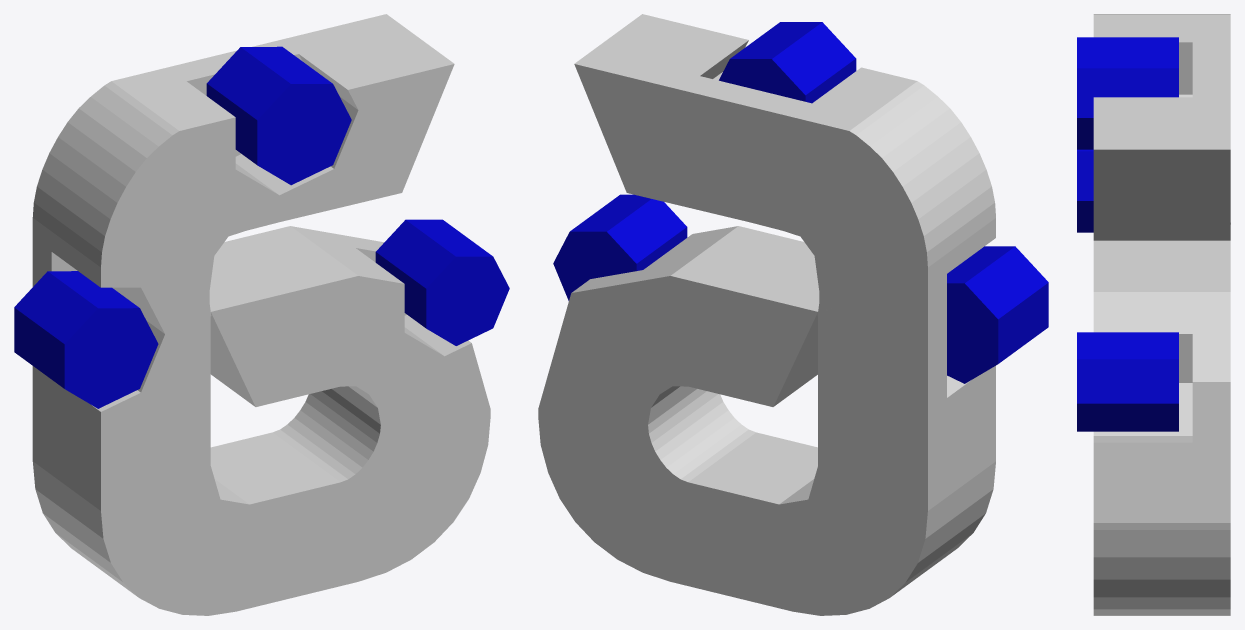
File: Ch_Lite_6_01.fbx
3 renders of one model, left to right at view 1: azimuth 30°, elevation 25°; view 2: azimuth 150°, elevation 25°; view 3: azimuth 270°, elevation 25°, orthographic.
Visible parts, largest first — view 1: sphere1; view 2: sphere1; view 3: sphere1.
Boxes of the visible parts, bbox=[...] form: sphere1: bbox=[14, 14, 509, 615]; sphere1: bbox=[538, 14, 1048, 615]; sphere1: bbox=[1077, 14, 1230, 615].
Size of the model in its own units: 0.7536 by 0.845 by 0.2243.
